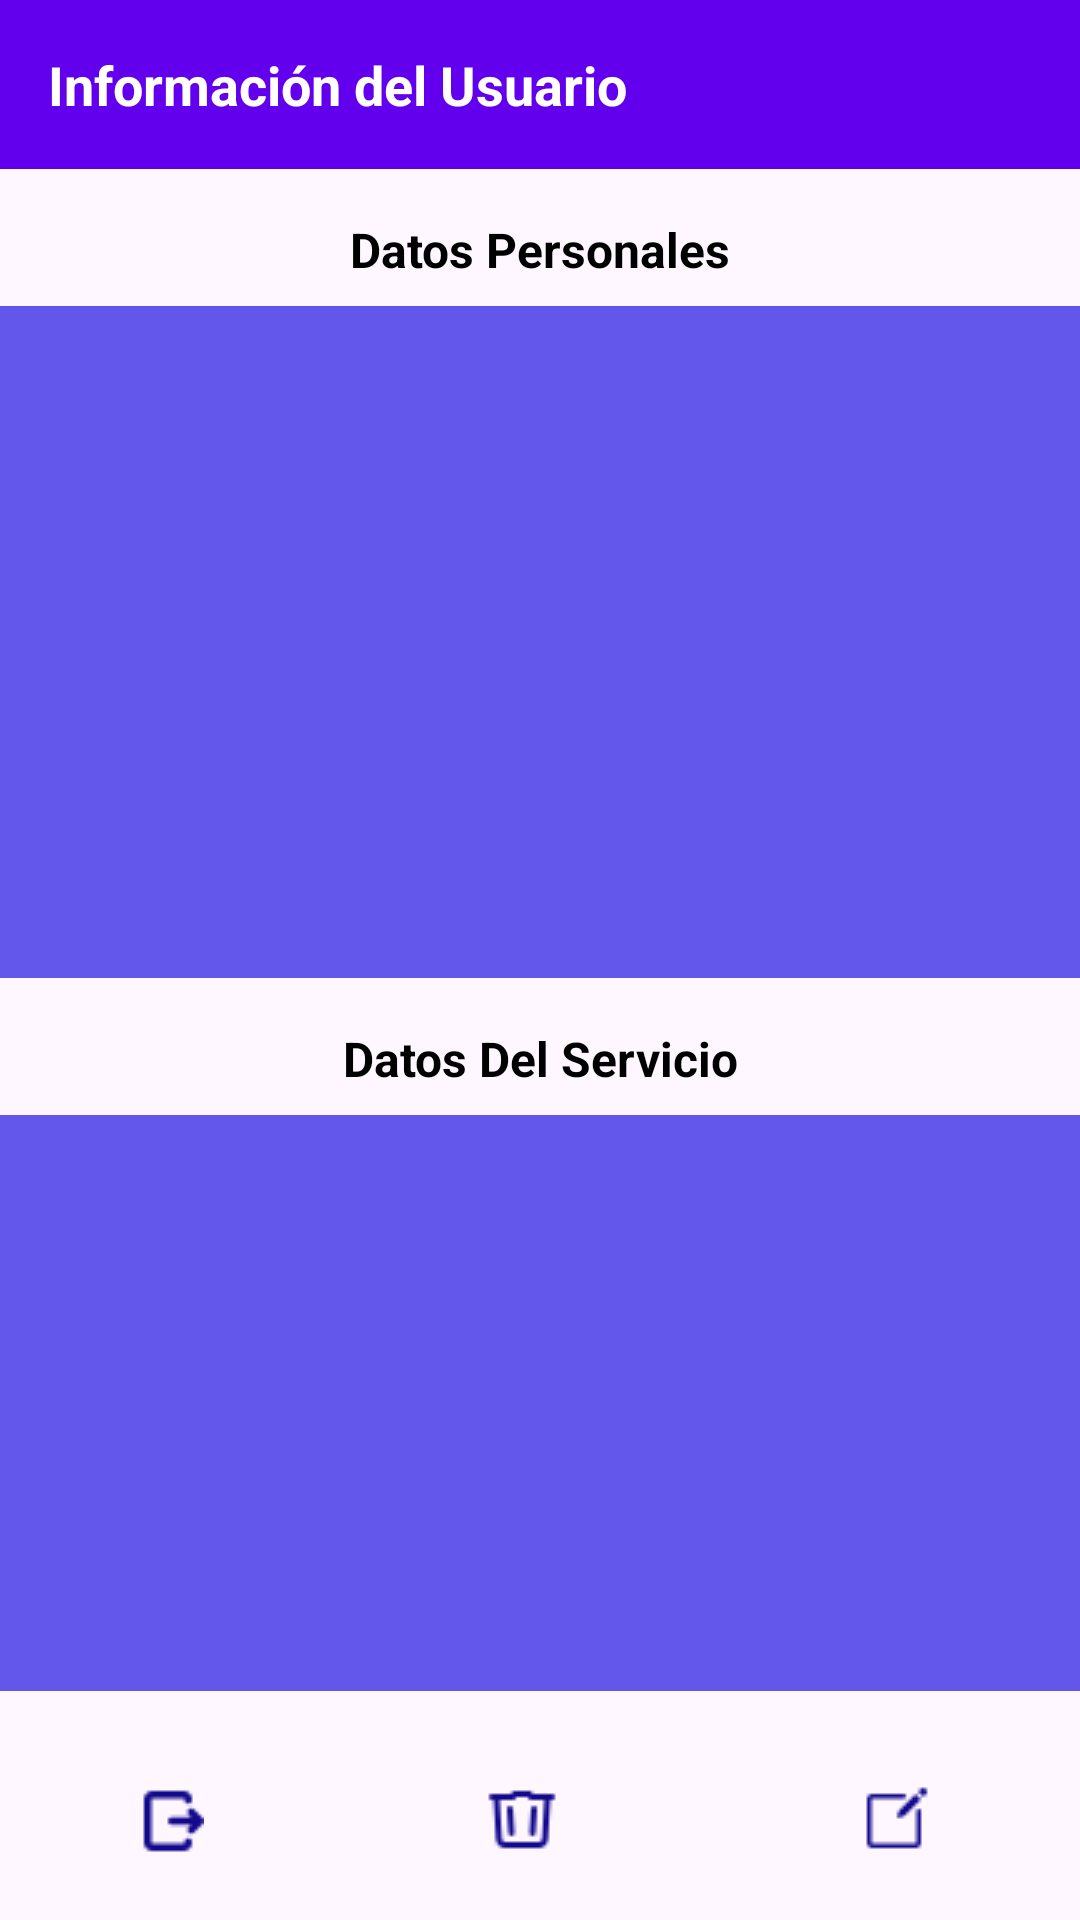

Icons on this 1080px×1920px Android screen, each with its box as (x1, y1, x2, y2):
delete: (488, 1790, 556, 1849)
Edit: (866, 1787, 928, 1849)
